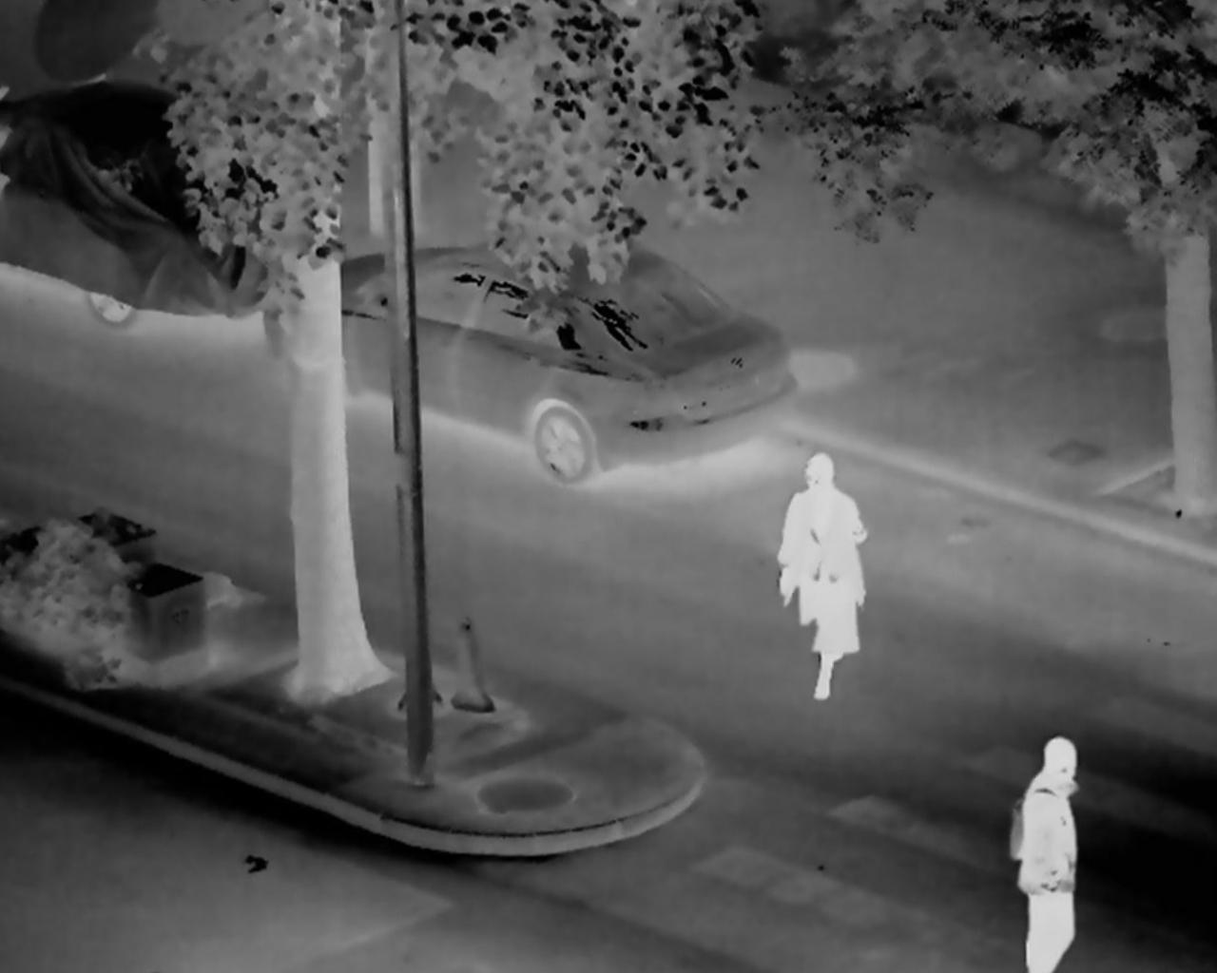person: (773, 447, 870, 698), (1011, 735, 1083, 973)
